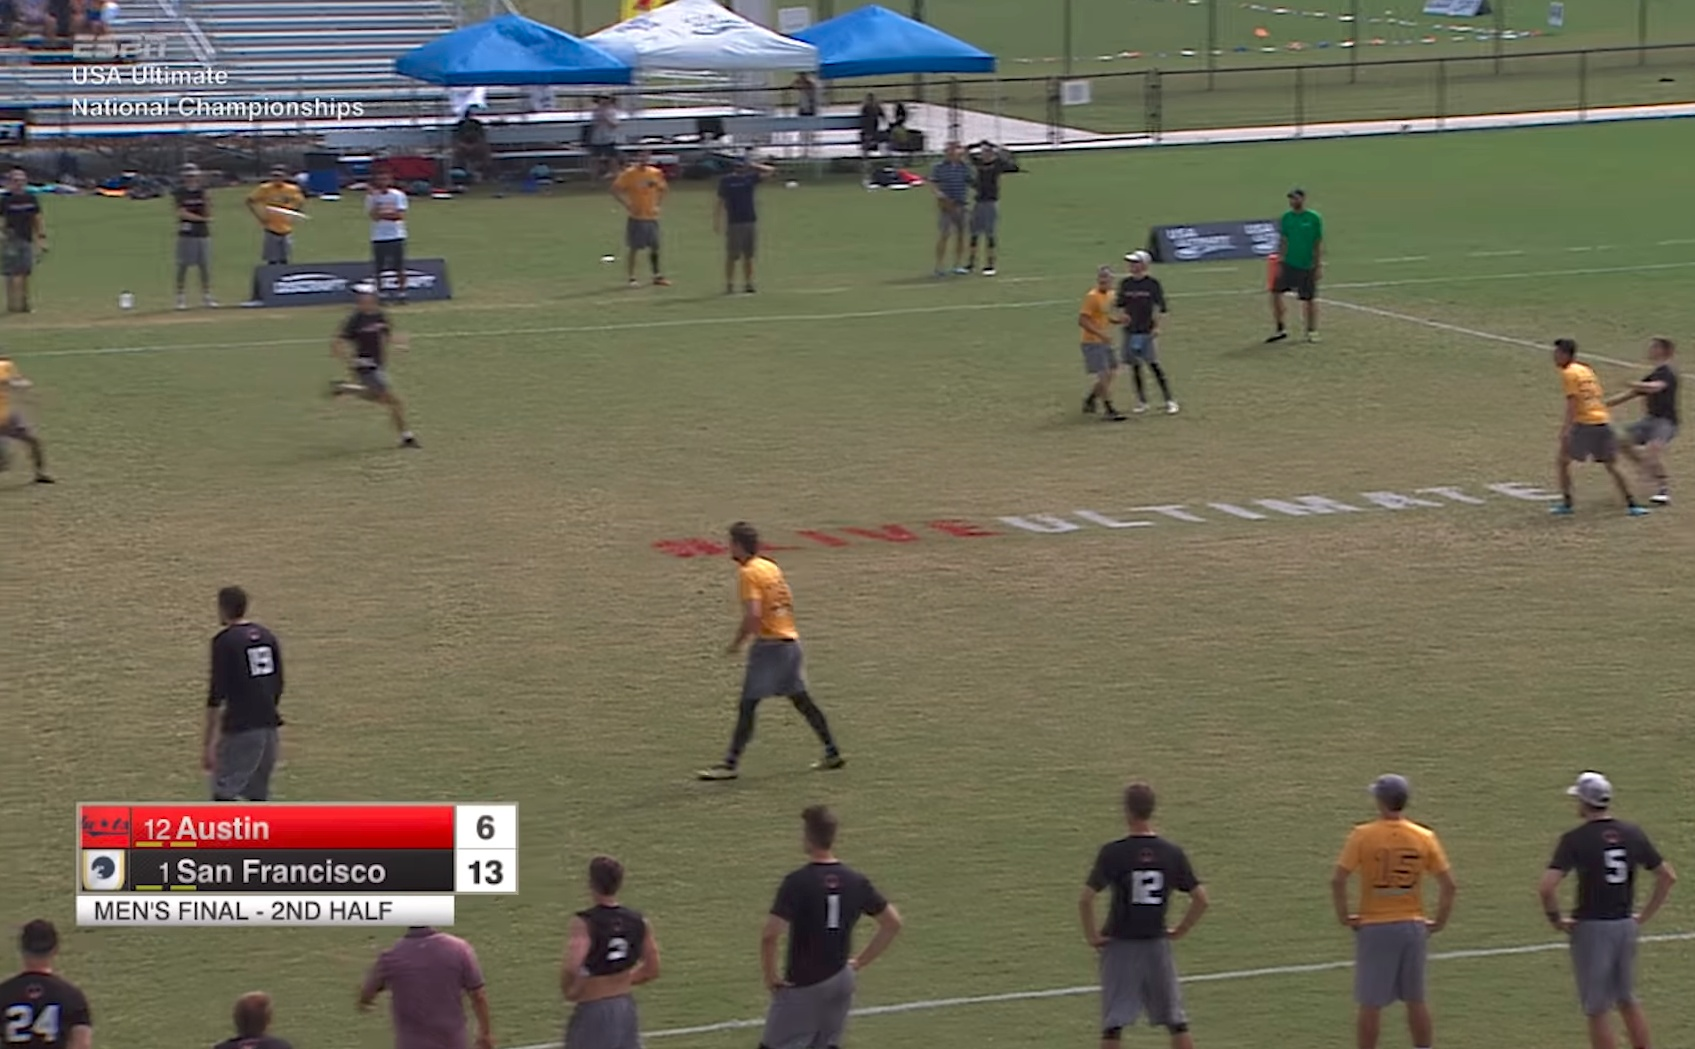frisbee: (265, 204, 310, 220), (318, 194, 341, 200), (887, 183, 910, 189), (431, 193, 453, 197)
